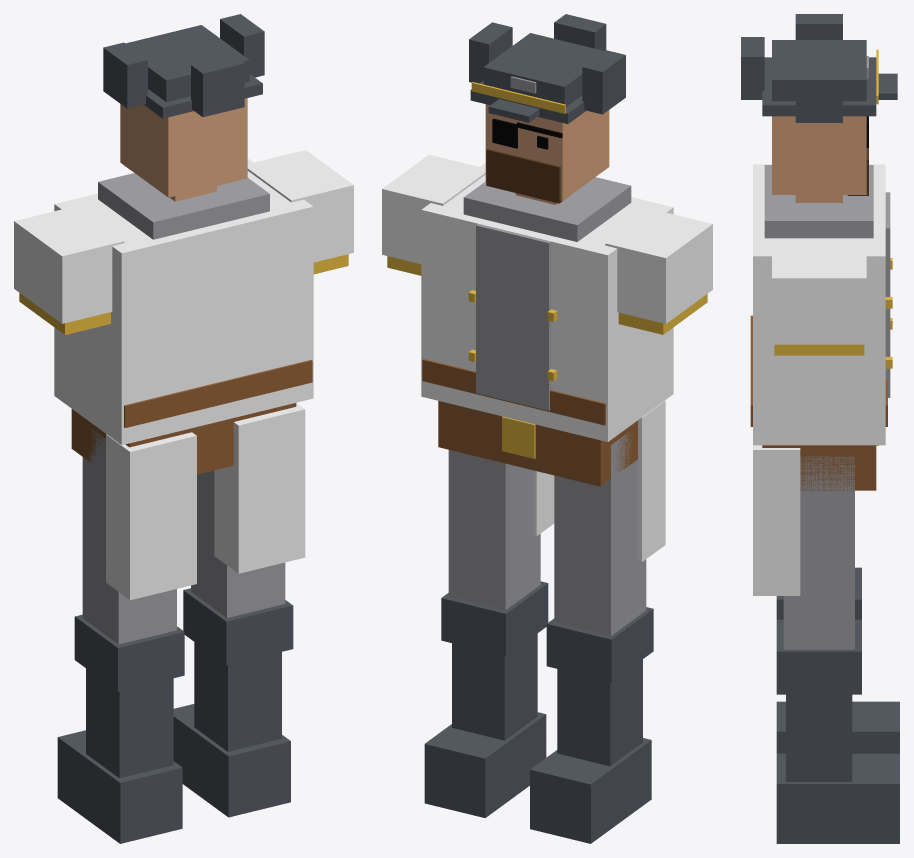
File: PIRATE.gltf
3 renders of one model, left to right at view 1: azimuth 30°, elevation 25°; view 2: azimuth 150°, elevation 25°; view 3: azimuth 270°, elevation 25°, orthographic. The views are drawn at different scales.
Visible parts, largest first — view 1: PIRATE; view 2: PIRATE; view 3: PIRATE.
Boxes of the visible parts, x1,y1,x2,y2 form: PIRATE: [14, 14, 353, 843]; PIRATE: [382, 14, 712, 843]; PIRATE: [741, 14, 899, 843].
Size of the model in its own units: 0.7 by 1.76 by 0.335.
